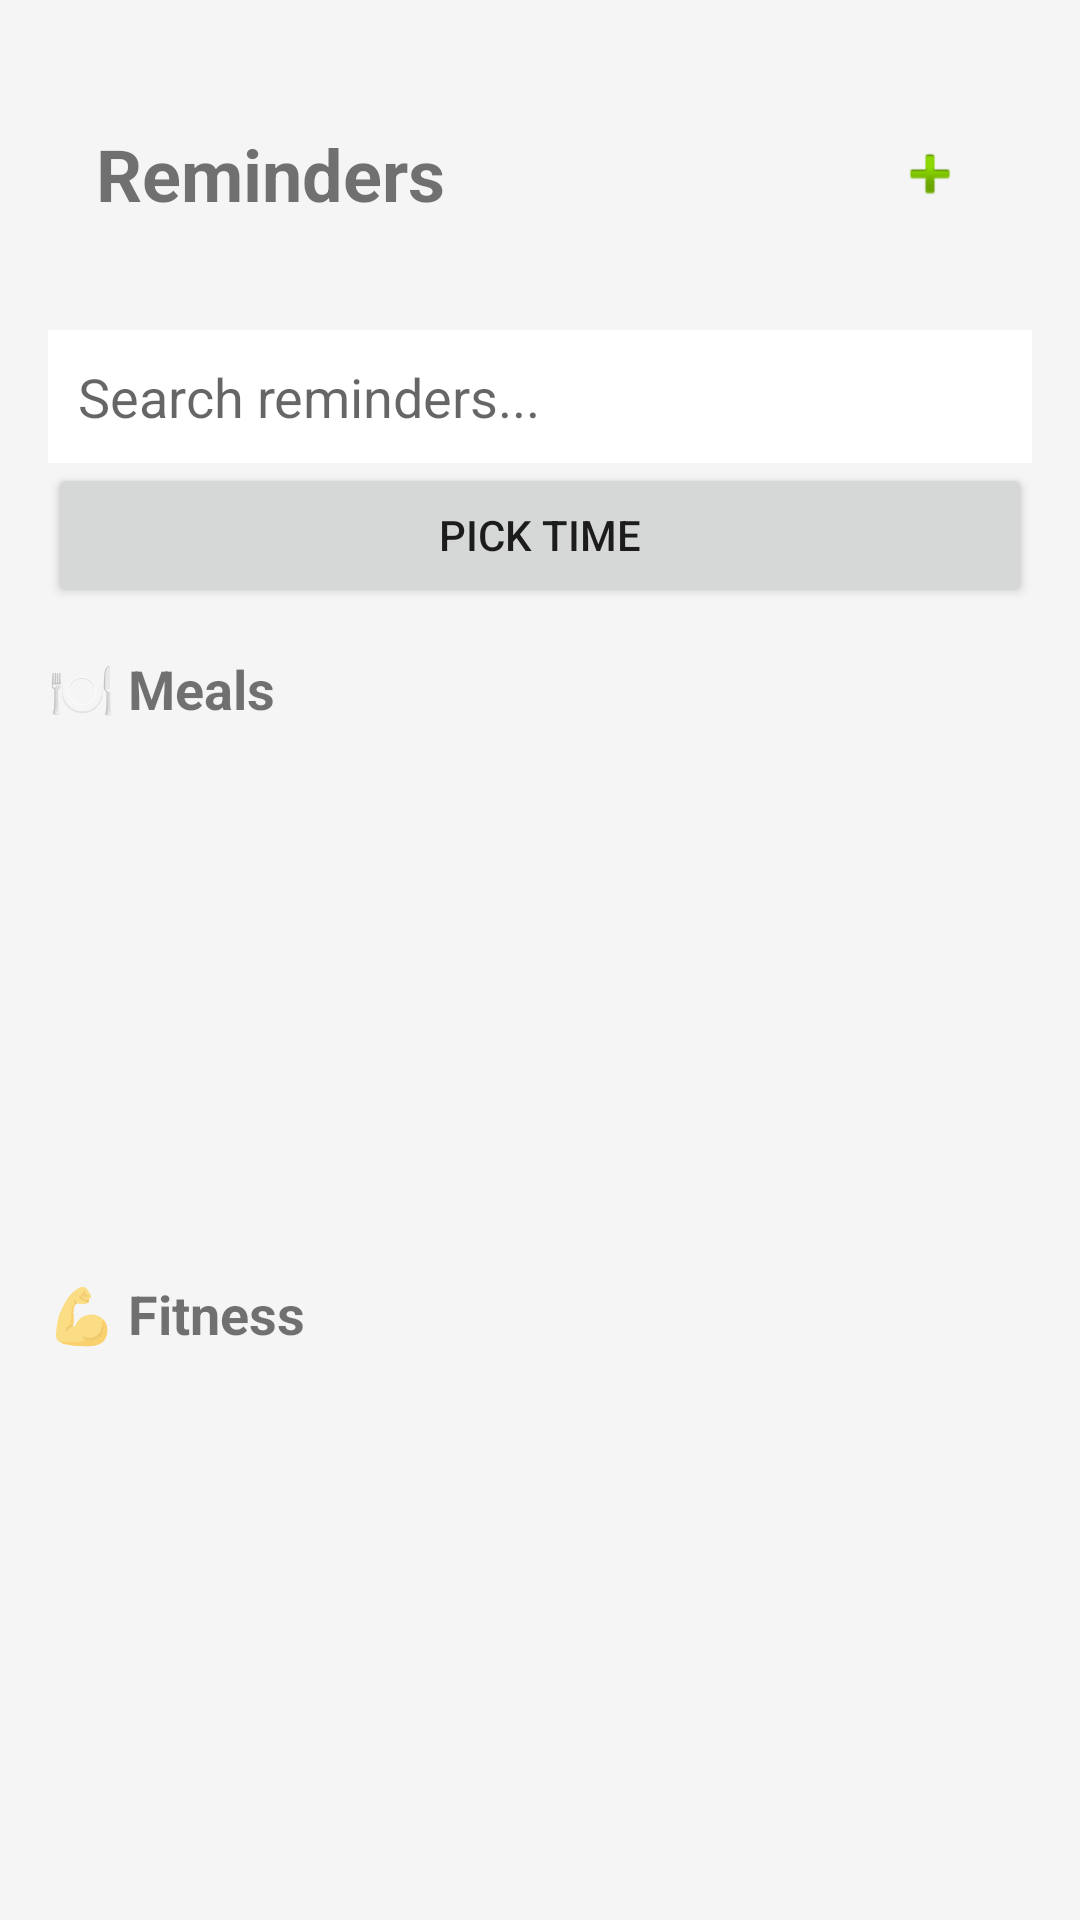

Icons on this 1080 x 1920 Android screen, each with the point to tap as (x=x, y=y):
Add: (x=930, y=174)
